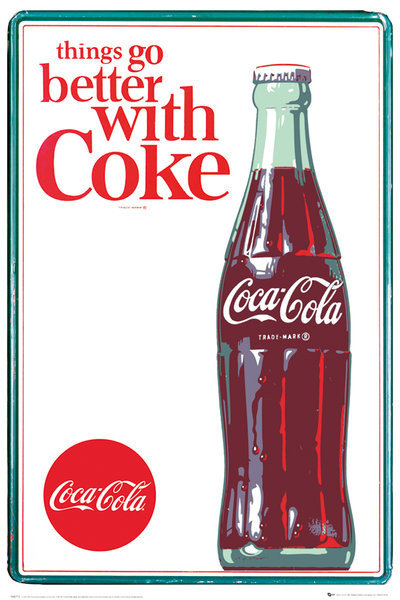Coca-Cola: (220, 63, 351, 572)
